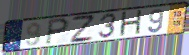3: (96, 12, 118, 41)
9: (25, 21, 44, 47), (147, 8, 165, 34)
H: (118, 9, 144, 39)
P: (44, 17, 72, 47)
Z: (69, 14, 95, 44)
